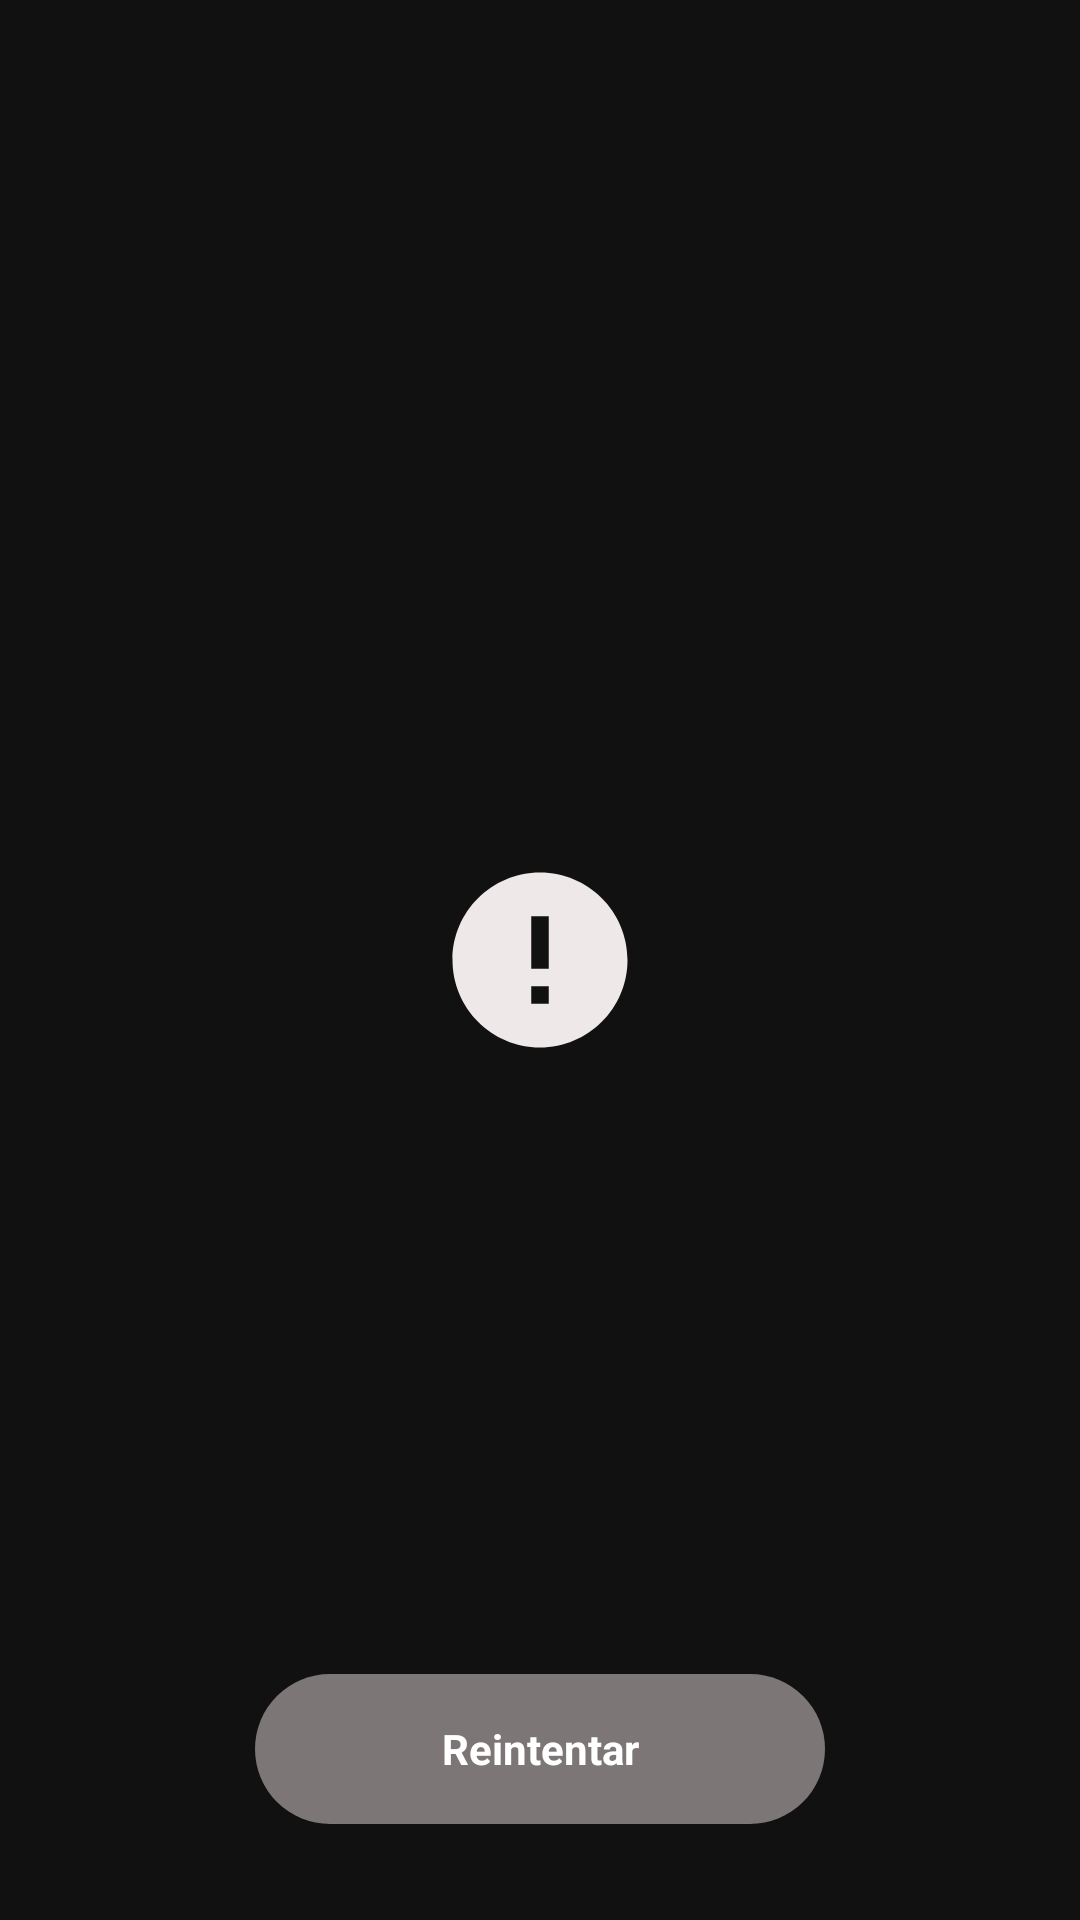

Icon click points for this 1080 x 1920 phone screenshot, format (x,y):
error: (540,960)
